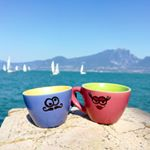cups: (68, 81, 133, 126), (20, 83, 74, 129)
